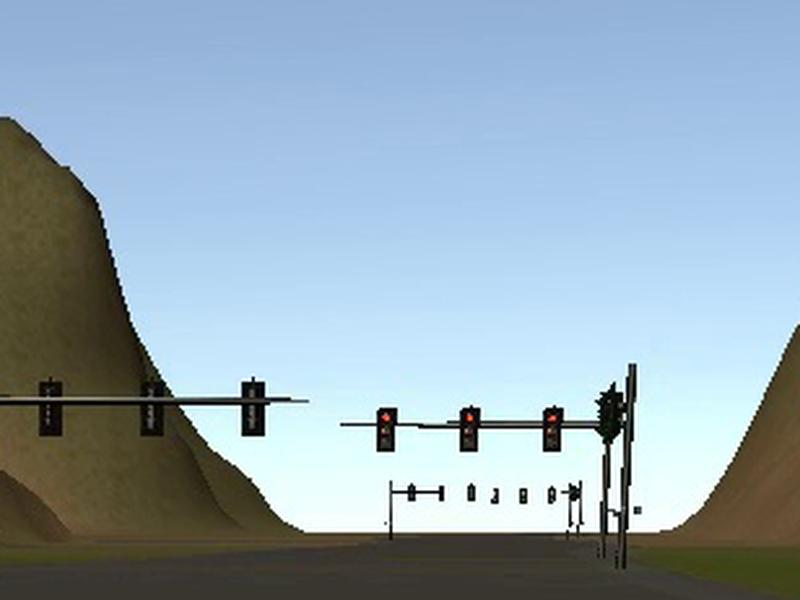Red: (376, 408, 396, 449), (543, 408, 562, 451), (460, 409, 479, 451)
